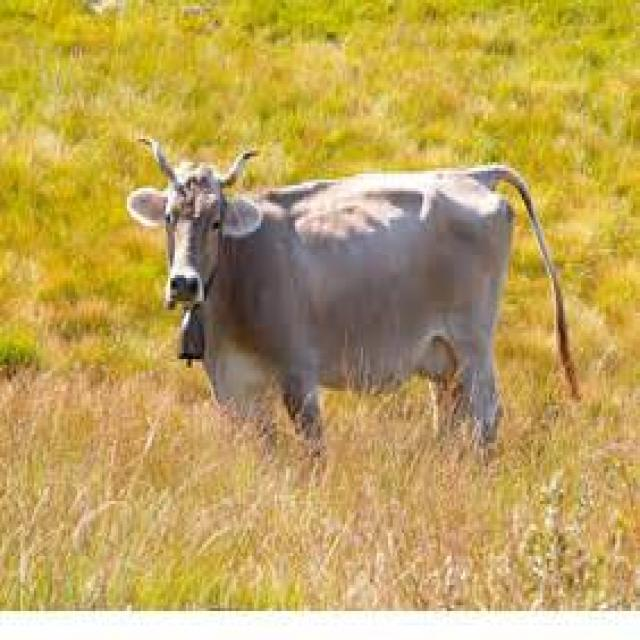cow: (125, 142, 531, 458)
